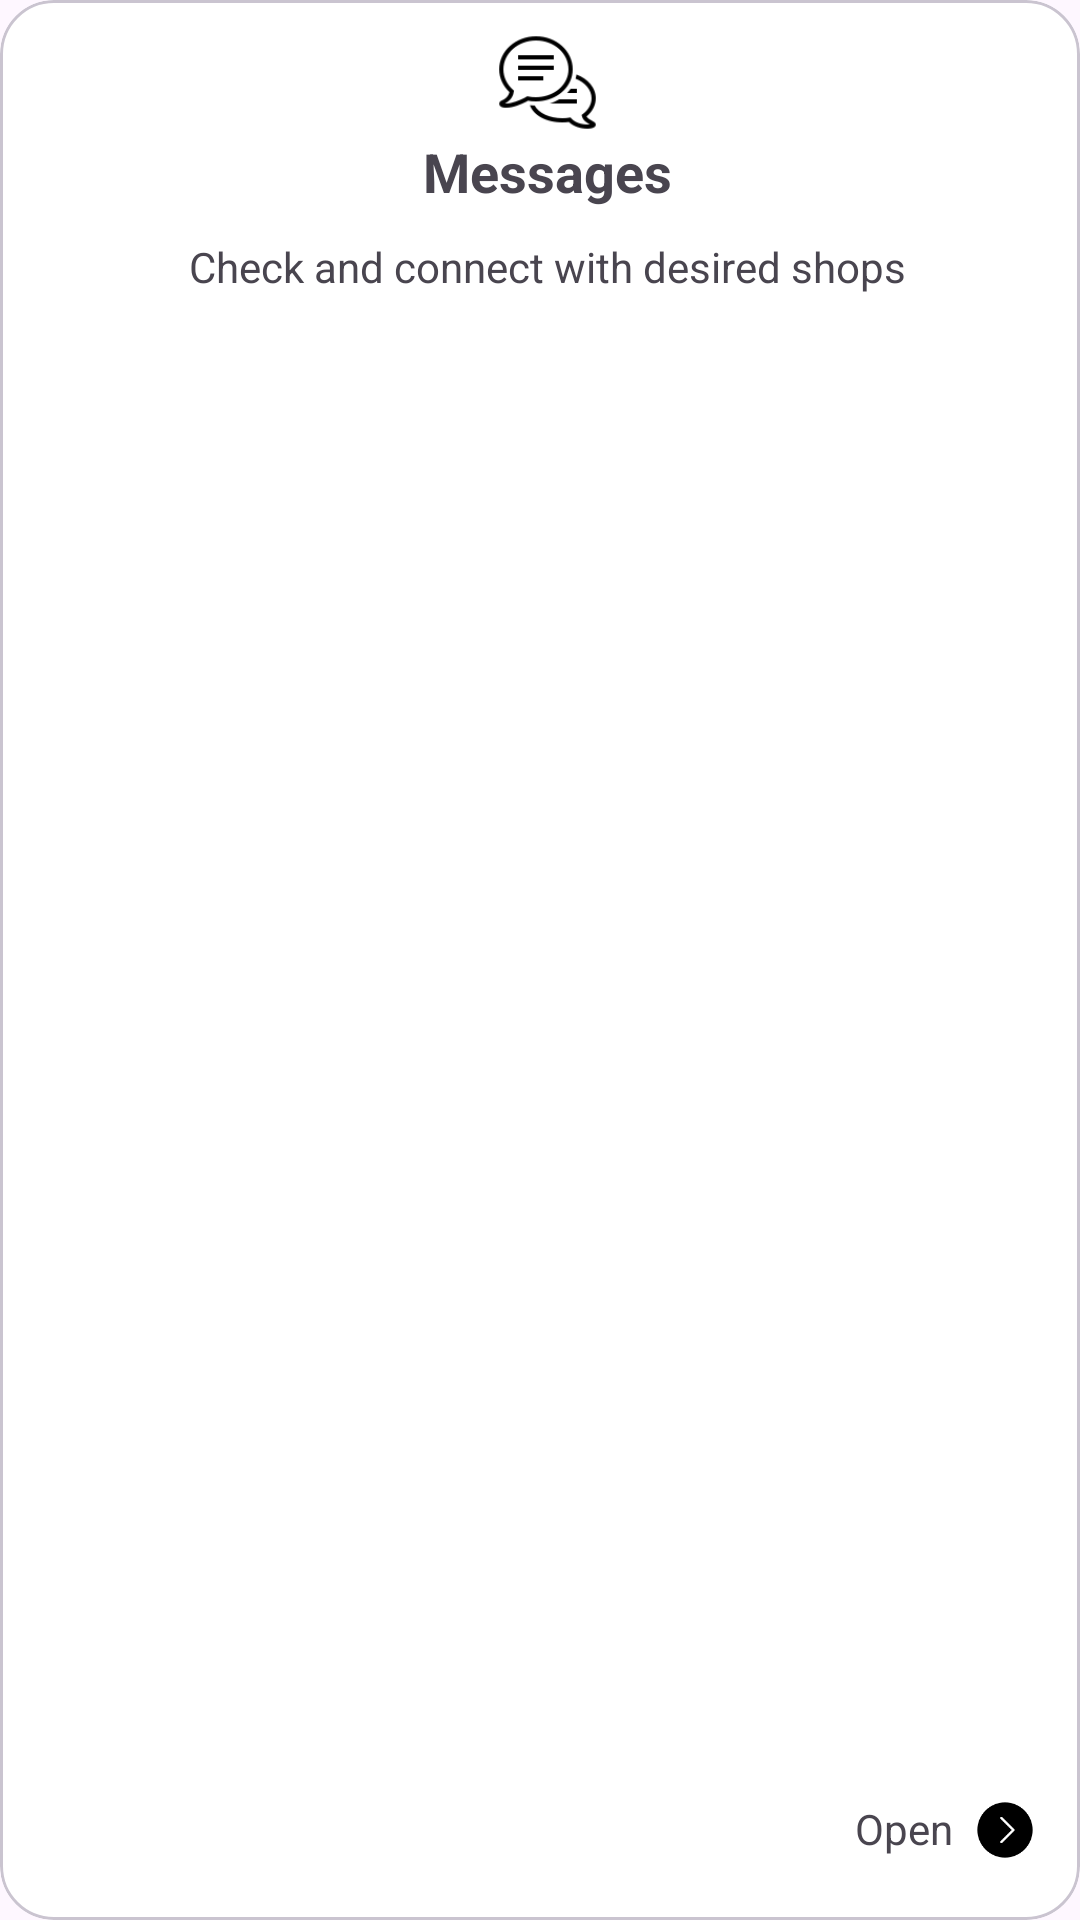

Where icons sit on this 1080 × 1920 app screen, as (x1, y1, x2, y2):
next: (977, 1802, 1033, 1858)
